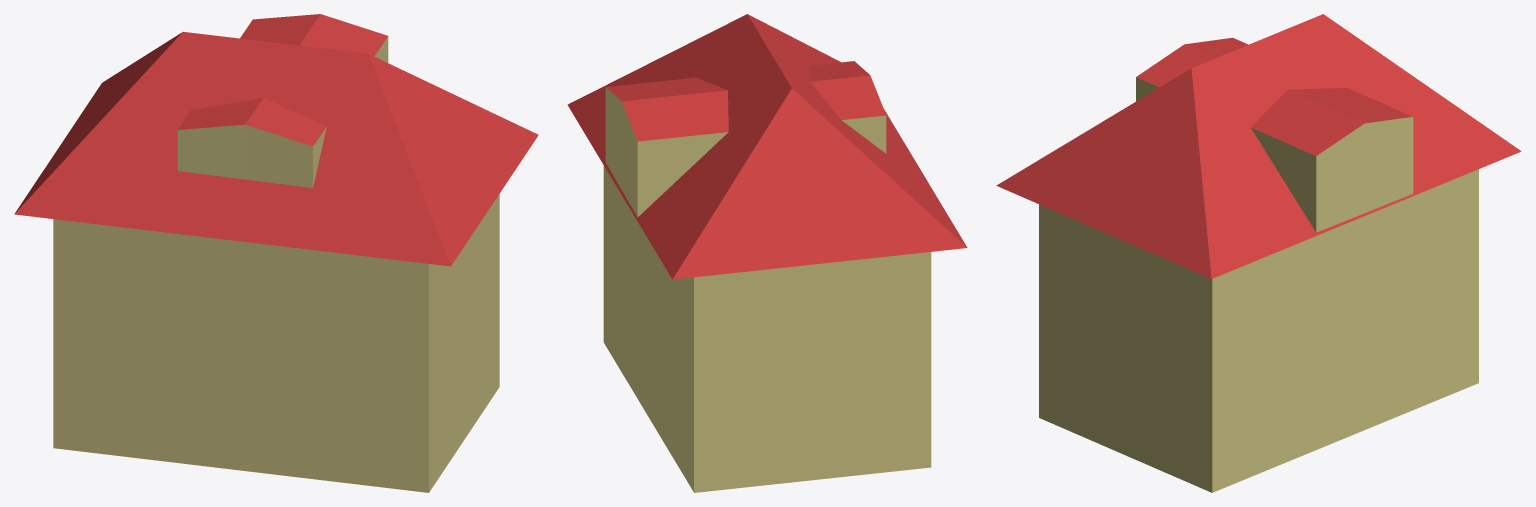
The picture shows the model from 3 angles, left to right: view 1: azimuth 30°, elevation 25°; view 2: azimuth 150°, elevation 25°; view 3: azimuth 270°, elevation 25°; orthographic projection. The views are drawn at different scales.
Parts seen in each view (by area): view 1: group_7, group_3, group_6, group_4, group_5; view 2: group_7, group_3, group_4, group_5, group_6; view 3: group_7, group_3, group_5, group_4, group_6.
Part boxes in pixels (<box>): group_7: <box>53,194,499,492</box>; group_3: <box>14,31,538,266</box>; group_6: <box>15,74,535,265</box>; group_4: <box>178,14,387,146</box>; group_5: <box>177,36,388,187</box>; group_7: <box>603,165,931,492</box>; group_3: <box>567,14,967,279</box>; group_4: <box>606,61,886,141</box>; group_5: <box>605,87,886,216</box>; group_6: <box>585,60,965,279</box>; group_7: <box>1039,169,1478,492</box>; group_3: <box>996,14,1518,278</box>; group_5: <box>1136,77,1413,232</box>; group_4: <box>1136,37,1412,155</box>; group_6: <box>997,120,1521,276</box>.
Bounding box in the file's own units: 17.21 × 17.29 × 13.02.
